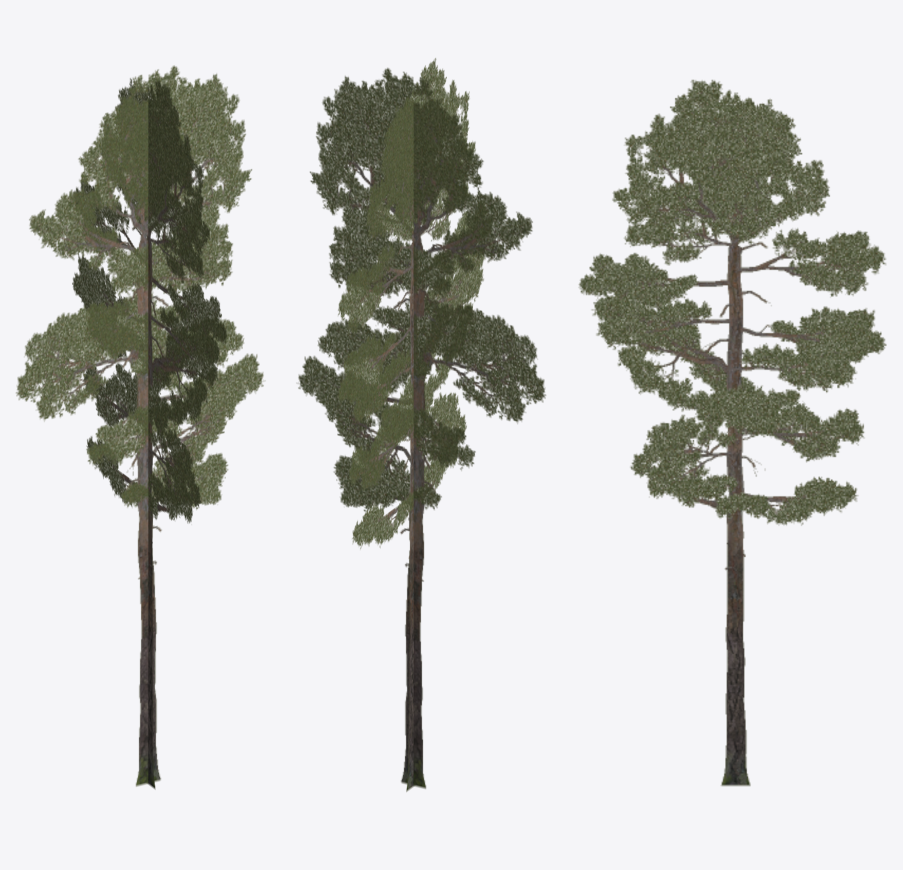
File: PinusSylvestris.glb
3 views of the same model, side by side, from view 1: azimuth 30°, elevation 25°; view 2: azimuth 150°, elevation 25°; view 3: azimuth 270°, elevation 25° (orthographic).
Parts seen in each view (by area): view 1: mesh__mat_billboard_12; view 2: mesh__mat_billboard_12; view 3: mesh__mat_billboard_12.
Part boxes in pixels (box(x1,y1,x2,y2)): mesh__mat_billboard_12: box(16, 65, 263, 789); mesh__mat_billboard_12: box(297, 58, 545, 791); mesh__mat_billboard_12: box(579, 79, 886, 786).
Size of the model in its own units: 10.06 by 27.69 by 10.88.
Materials: 1 (1 with a texture image).
